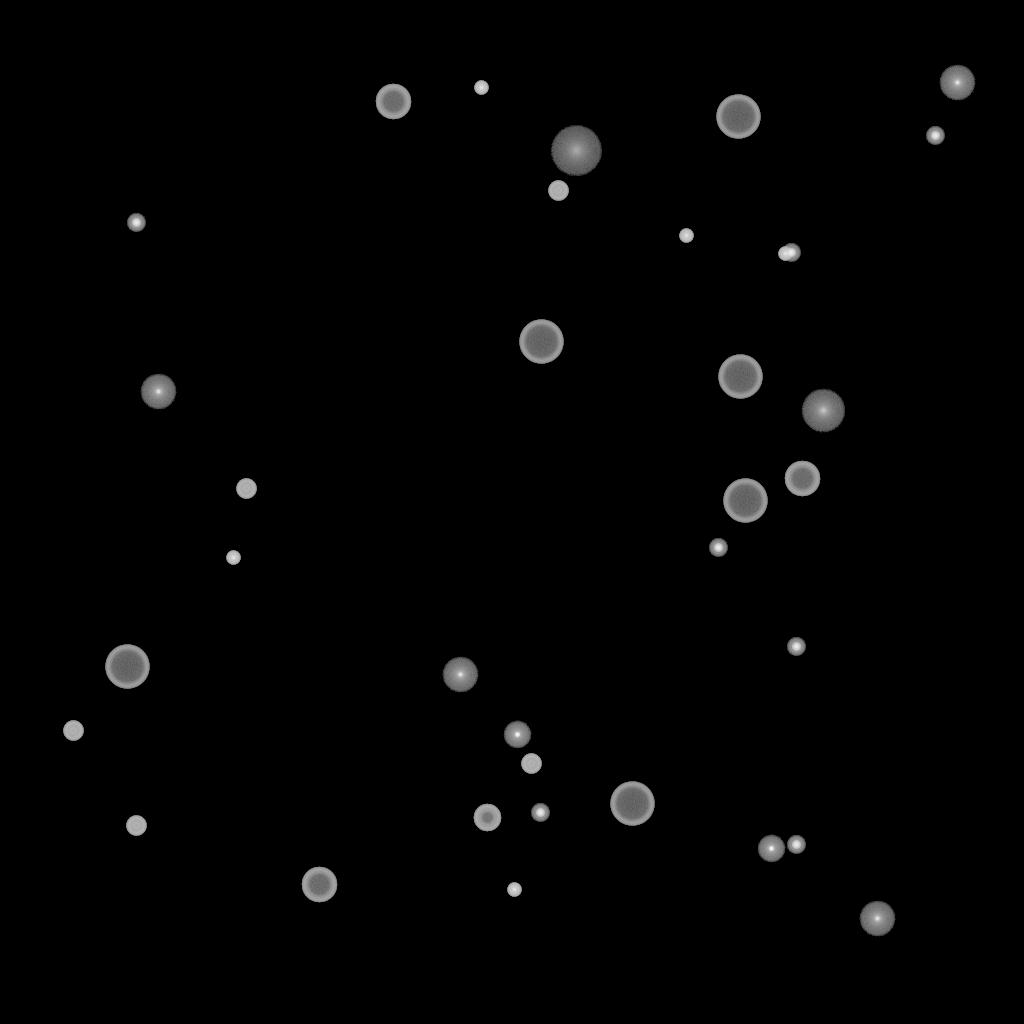depth:-10: (503, 721, 531, 749), (757, 835, 785, 863)
depth:-20: (787, 638, 805, 656), (926, 127, 944, 145), (787, 836, 805, 854), (127, 214, 145, 232), (709, 539, 727, 557), (531, 804, 549, 822), (782, 244, 800, 262)
depth:-30: (679, 229, 693, 243), (226, 551, 240, 565), (474, 81, 488, 95), (507, 883, 521, 897), (778, 247, 792, 261)
depth:-40: (63, 721, 83, 741), (126, 816, 146, 836), (548, 181, 568, 201), (236, 479, 256, 499), (521, 754, 541, 774)
depth:-50: (473, 804, 501, 832)
depth:-60: (375, 84, 411, 120), (784, 461, 820, 497), (301, 867, 337, 903)
depth:-70: (718, 355, 762, 399), (519, 320, 563, 364), (716, 95, 760, 139), (723, 479, 767, 523), (105, 645, 149, 689), (610, 782, 654, 826)
depth:0: (859, 901, 895, 937), (939, 65, 975, 101), (442, 657, 478, 693), (140, 374, 176, 410)
depth:10: (801, 389, 845, 433)
depth:20: (550, 126, 602, 176)
